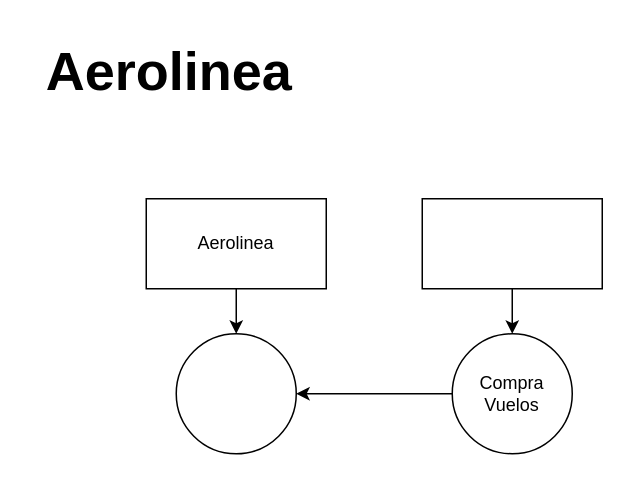
Image size: 629x480. Some labels were removed from this diagram. The centre of each missing label's shape, as x and y in pixels:
"Cliente" goes at (511,243).
"Registra Vuelos" goes at (235,393).
